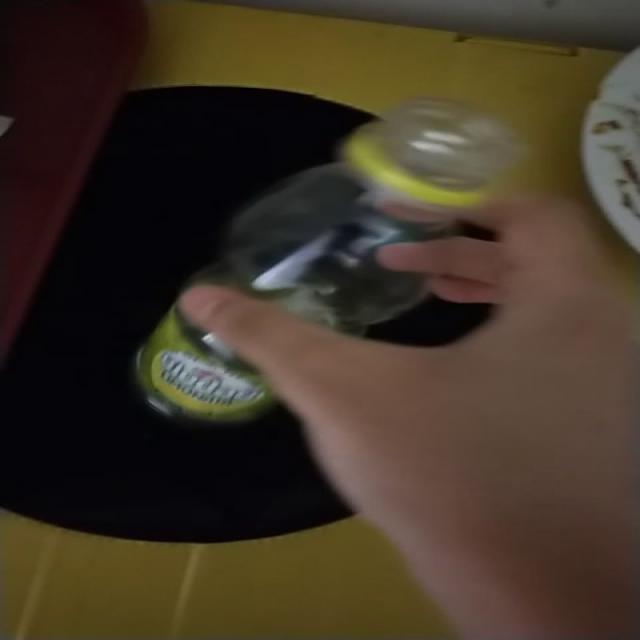plastic: (191, 97, 523, 335), (136, 310, 275, 424)
